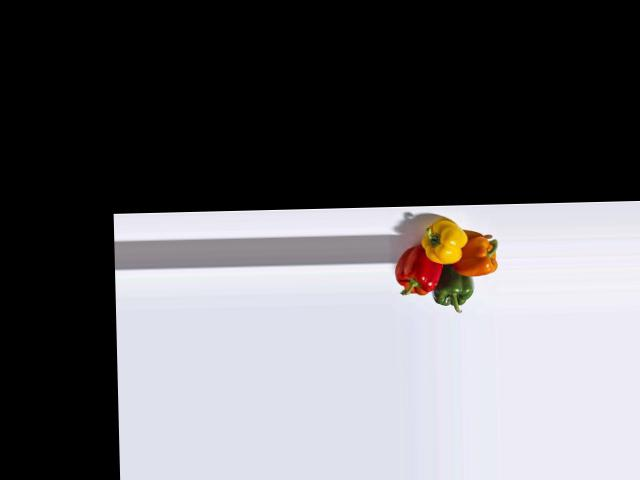bell_pepper: (392, 244, 442, 300)
